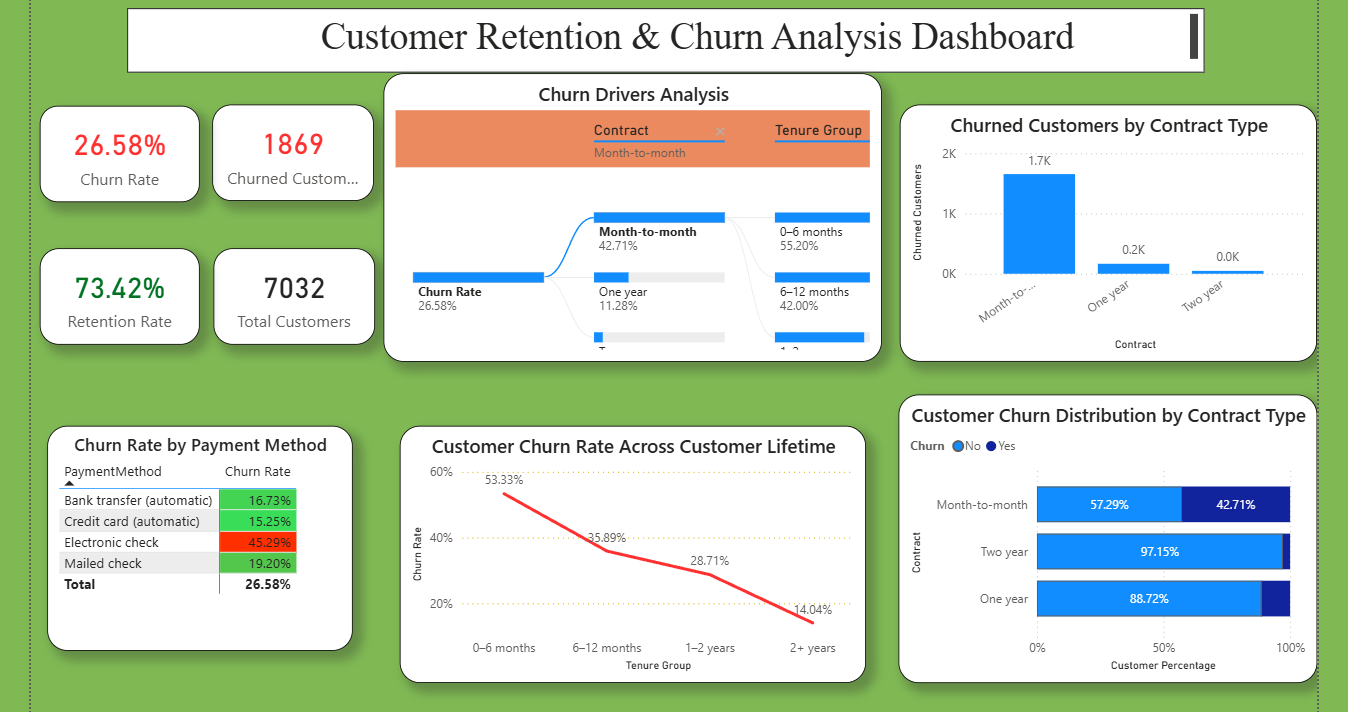

What the dashboard file says about the page in this screenshot:
{"tool":"powerbi","page":{"name":"Page 1","canvas":[1280,720],"ordinal":0},"visuals":[{"type":"card","fields":{"Values":["WA_Fn-UseC_-Telco-Customer-Churn.Total Customers"]},"box":[181.6,255,160.5,95.8],"z":0},{"type":"card","fields":{"Values":["WA_Fn-UseC_-Telco-Customer-Churn.Churned Customers"]},"box":[180.4,112,160.5,95.8],"z":1000},{"type":"card","fields":{"Values":["WA_Fn-UseC_-Telco-Customer-Churn.Churn Rate"]},"box":[8.7,113.2,159.2,95.8],"z":2000},{"type":"card","fields":{"Values":["WA_Fn-UseC_-Telco-Customer-Churn.Retention Rate"]},"box":[8.7,255,159.2,95.8],"z":3000},{"type":"clusteredColumnChart","title":"Churned Customers by Contract Type","fields":{"Category":["WA_Fn-UseC_-Telco-Customer-Churn.Contract"],"Y":["WA_Fn-UseC_-Telco-Customer-Churn.Churned Customers"]},"box":[864.6,112,415.5,256.3],"z":4000},{"type":"pivotTable","title":"Churn Rate by Payment Method","fields":{"Rows":["WA_Fn-UseC_-Telco-Customer-Churn.PaymentMethod"],"Values":["WA_Fn-UseC_-Telco-Customer-Churn.Churn Rate"]},"box":[16,432,304,224],"z":7000},{"type":"textbox","box":[96,16,1072,64],"z":9000},{"type":"hundredPercentStackedBarChart","title":"Customer Churn Distribution by Contract Type","fields":{"Series":["WA_Fn-UseC_-Telco-Customer-Churn.Churn"],"Category":["WA_Fn-UseC_-Telco-Customer-Churn.Contract"],"Y":["CountNonNull(WA_Fn-UseC_-Telco-Customer-Churn.customerID)"]},"box":[863.3,400.6,416.7,287.4],"z":9001},{"type":"decompositionTreeVisual","title":"Churn Drivers Analysis","fields":{"Analyze":["WA_Fn-UseC_-Telco-Customer-Churn.Churn Rate"],"ExplainBy":["WA_Fn-UseC_-Telco-Customer-Churn.Contract","WA_Fn-UseC_-Telco-Customer-Churn.Tenure Group","WA_Fn-UseC_-Telco-Customer-Churn.InternetService","WA_Fn-UseC_-Telco-Customer-Churn.PaymentMethod"]},"box":[350.8,80.9,496.3,287.4],"z":9002},{"type":"lineChart","title":"Customer Churn Rate Across Customer Lifetime","fields":{"Category":["WA_Fn-UseC_-Telco-Customer-Churn.Tenure Group"],"Y":["WA_Fn-UseC_-Telco-Customer-Churn.Churn Rate"]},"box":[367,431.7,464,256.3],"z":9003}]}

Visuals, with their boxes in screenshot pixels (x1, y1, x2, y2):
card - WA_Fn-UseC_-Telco-Customer-Churn.Total Customers: bbox=(205, 244, 367, 341)
card - WA_Fn-UseC_-Telco-Customer-Churn.Churned Customers: bbox=(204, 99, 366, 196)
card - WA_Fn-UseC_-Telco-Customer-Churn.Churn Rate: bbox=(30, 101, 191, 197)
card - WA_Fn-UseC_-Telco-Customer-Churn.Retention Rate: bbox=(30, 244, 191, 341)
"Churned Customers by Contract Type" clusteredColumnChart: bbox=(896, 99, 1316, 359)
"Churn Rate by Payment Method" pivotTable: bbox=(37, 423, 345, 650)
textbox: bbox=(118, 2, 1203, 67)
"Customer Churn Distribution by Contract Type" hundredPercentStackedBarChart: bbox=(895, 391, 1316, 682)
"Churn Drivers Analysis" decompositionTreeVisual: bbox=(376, 68, 878, 359)
"Customer Churn Rate Across Customer Lifetime" lineChart: bbox=(392, 423, 862, 682)
